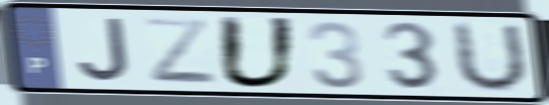3: (381, 19, 445, 93), (306, 18, 366, 90)
J: (75, 15, 134, 84)
U: (215, 13, 299, 91), (451, 18, 531, 95)
Z: (141, 15, 221, 87)
